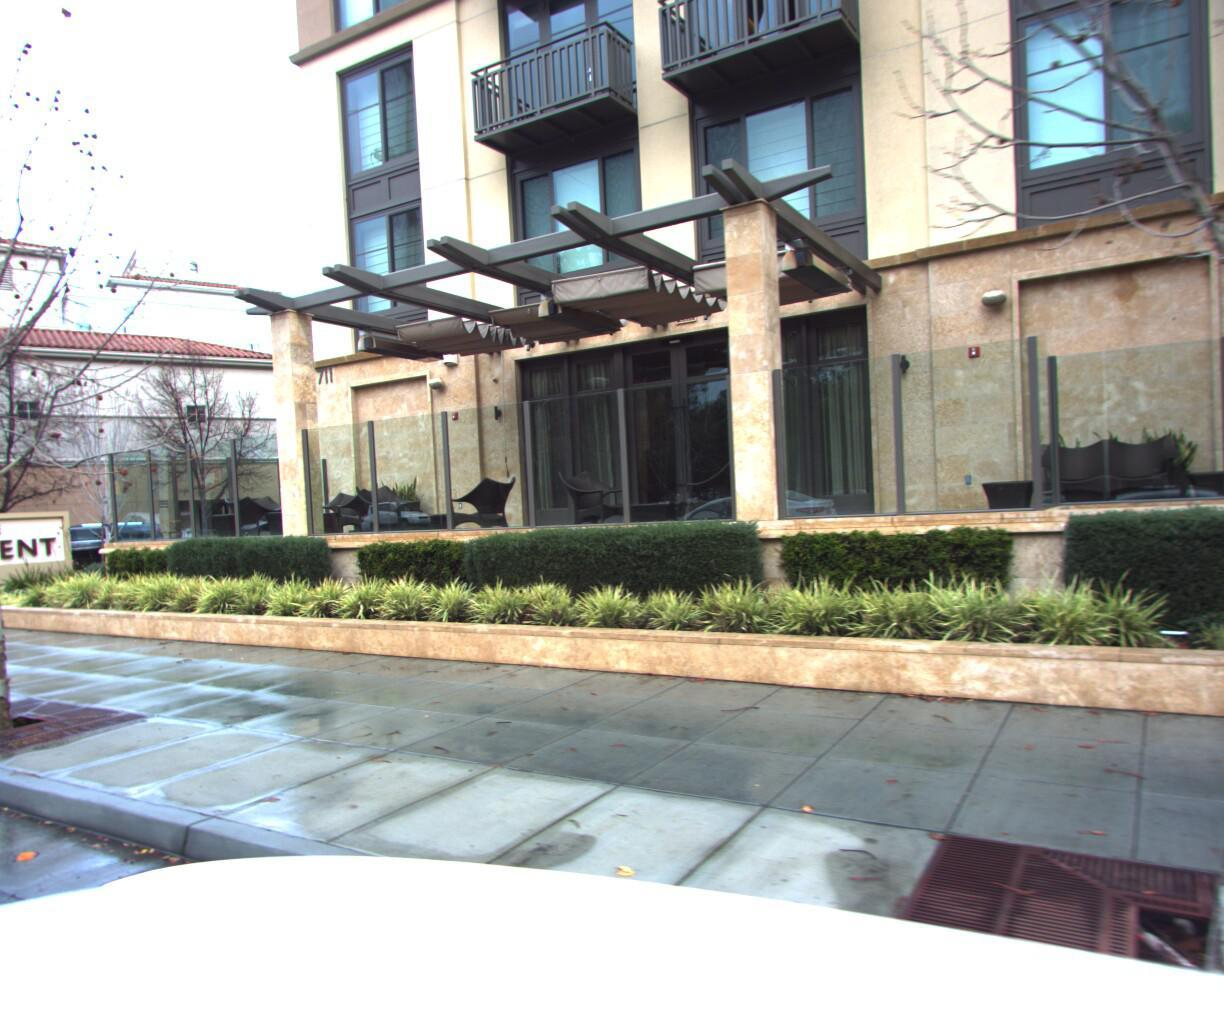car: (0, 518, 180, 590)
